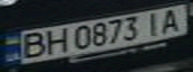0: (69, 22, 93, 51)
3: (121, 15, 145, 42)
7: (106, 17, 127, 45)
8: (90, 20, 112, 47)
A: (154, 7, 187, 35)
B: (15, 29, 51, 61)
H: (39, 27, 72, 55)
I: (139, 10, 169, 37)
